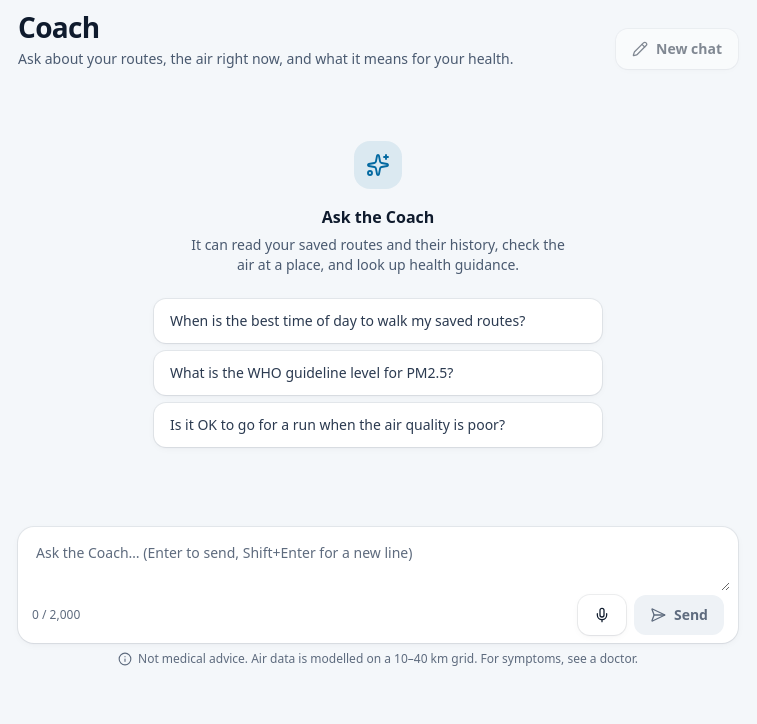
Test: Coach voice input › Send stops listening, and the mic is disabled while the Coach is thinking
The image size is (757, 724).
Later steps or results of the test are not shown.
Step 1. Click the button named "Start voice input" → (602, 615), box [578,595,626,635]
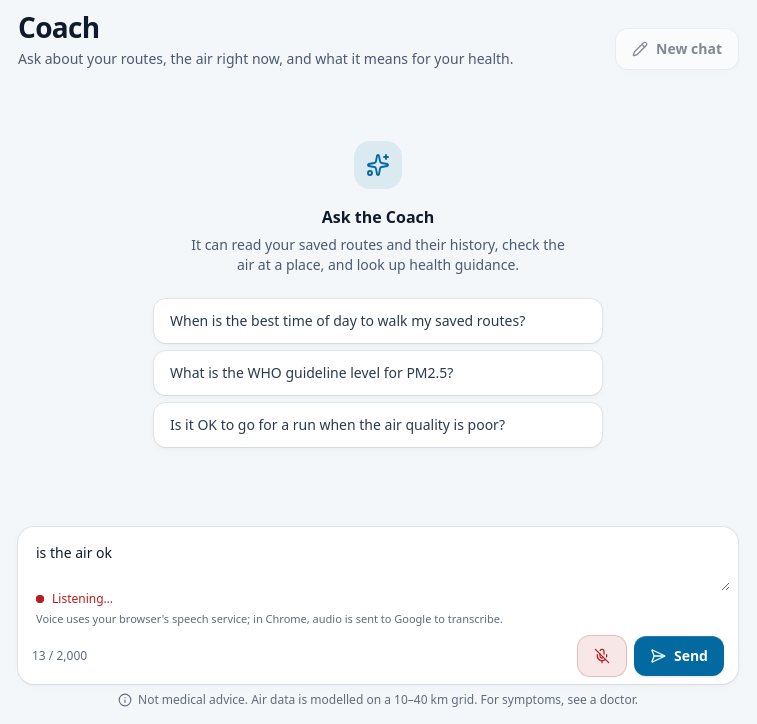
Step 2. Click the submit button → (679, 656), box [634,636,724,676]
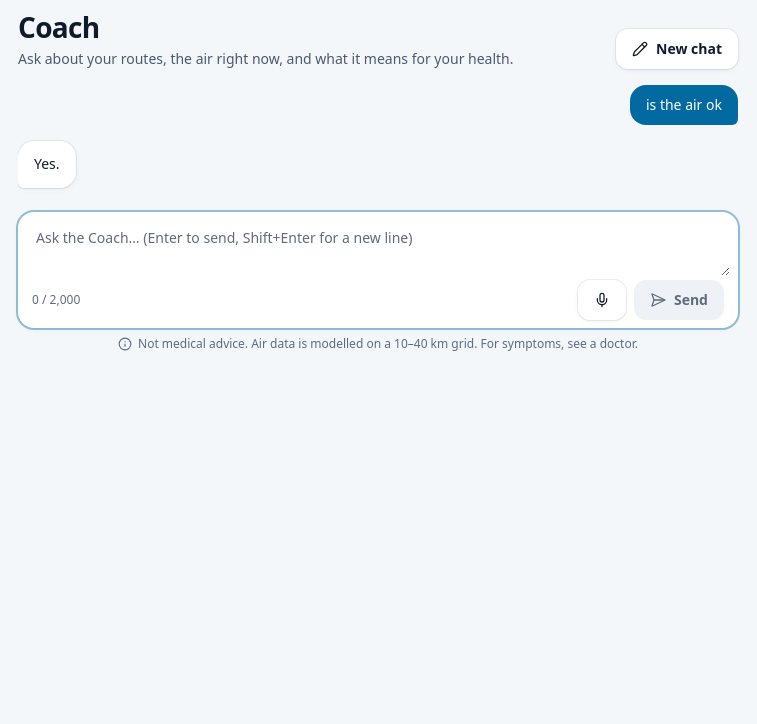
Check: the button named "Start voice input" is enabled, box [578,280,626,320]
Check: the element with test id "voice-listening" is gone
Check: the text box with placeholder "Ask the Coach… (Enter to send, Shift+Enter for a new line)" is empty, box [26,220,730,276]
